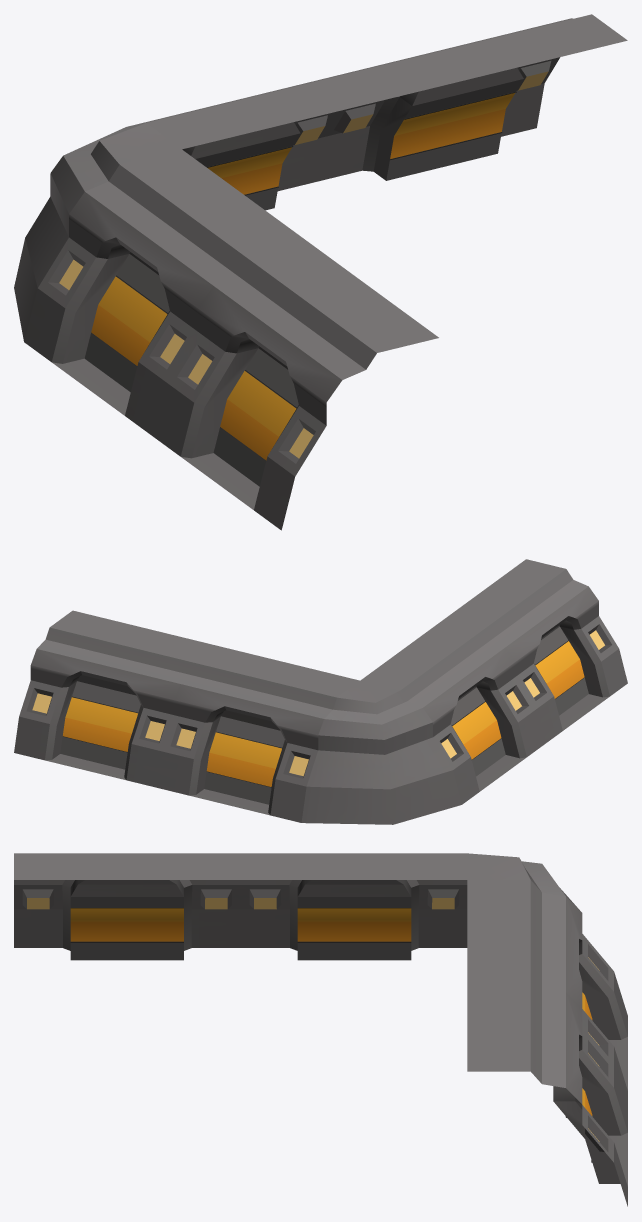
The model's file is Outter_Corner_Border_Wall.fbx.
3 views of the same model, one above another, from view 1: azimuth 30°, elevation 25°; view 2: azimuth 150°, elevation 25°; view 3: azimuth 270°, elevation 25° (orthographic). The views are drawn at different scales.
Visible parts, largest first — view 1: Outter_Corner_Wall; view 2: Outter_Corner_Wall; view 3: Outter_Corner_Wall.
Boxes of the visible parts, left/top/right/bottom form: Outter_Corner_Wall: left=14, top=14, right=627, bottom=530; Outter_Corner_Wall: left=14, top=559, right=627, bottom=824; Outter_Corner_Wall: left=14, top=853, right=627, bottom=1206.
Bounding box in the file's own units: 1136 × 277 × 1136.
1 material, 1 textured.
